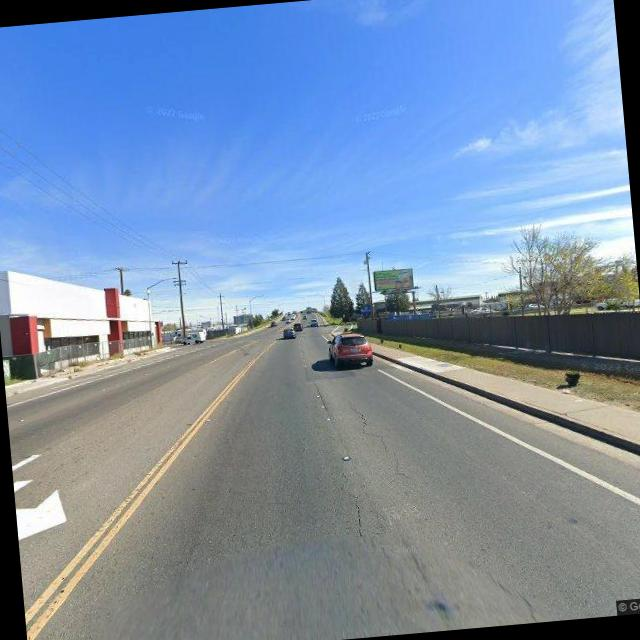crack: (349, 394, 409, 480), (345, 490, 367, 538)
